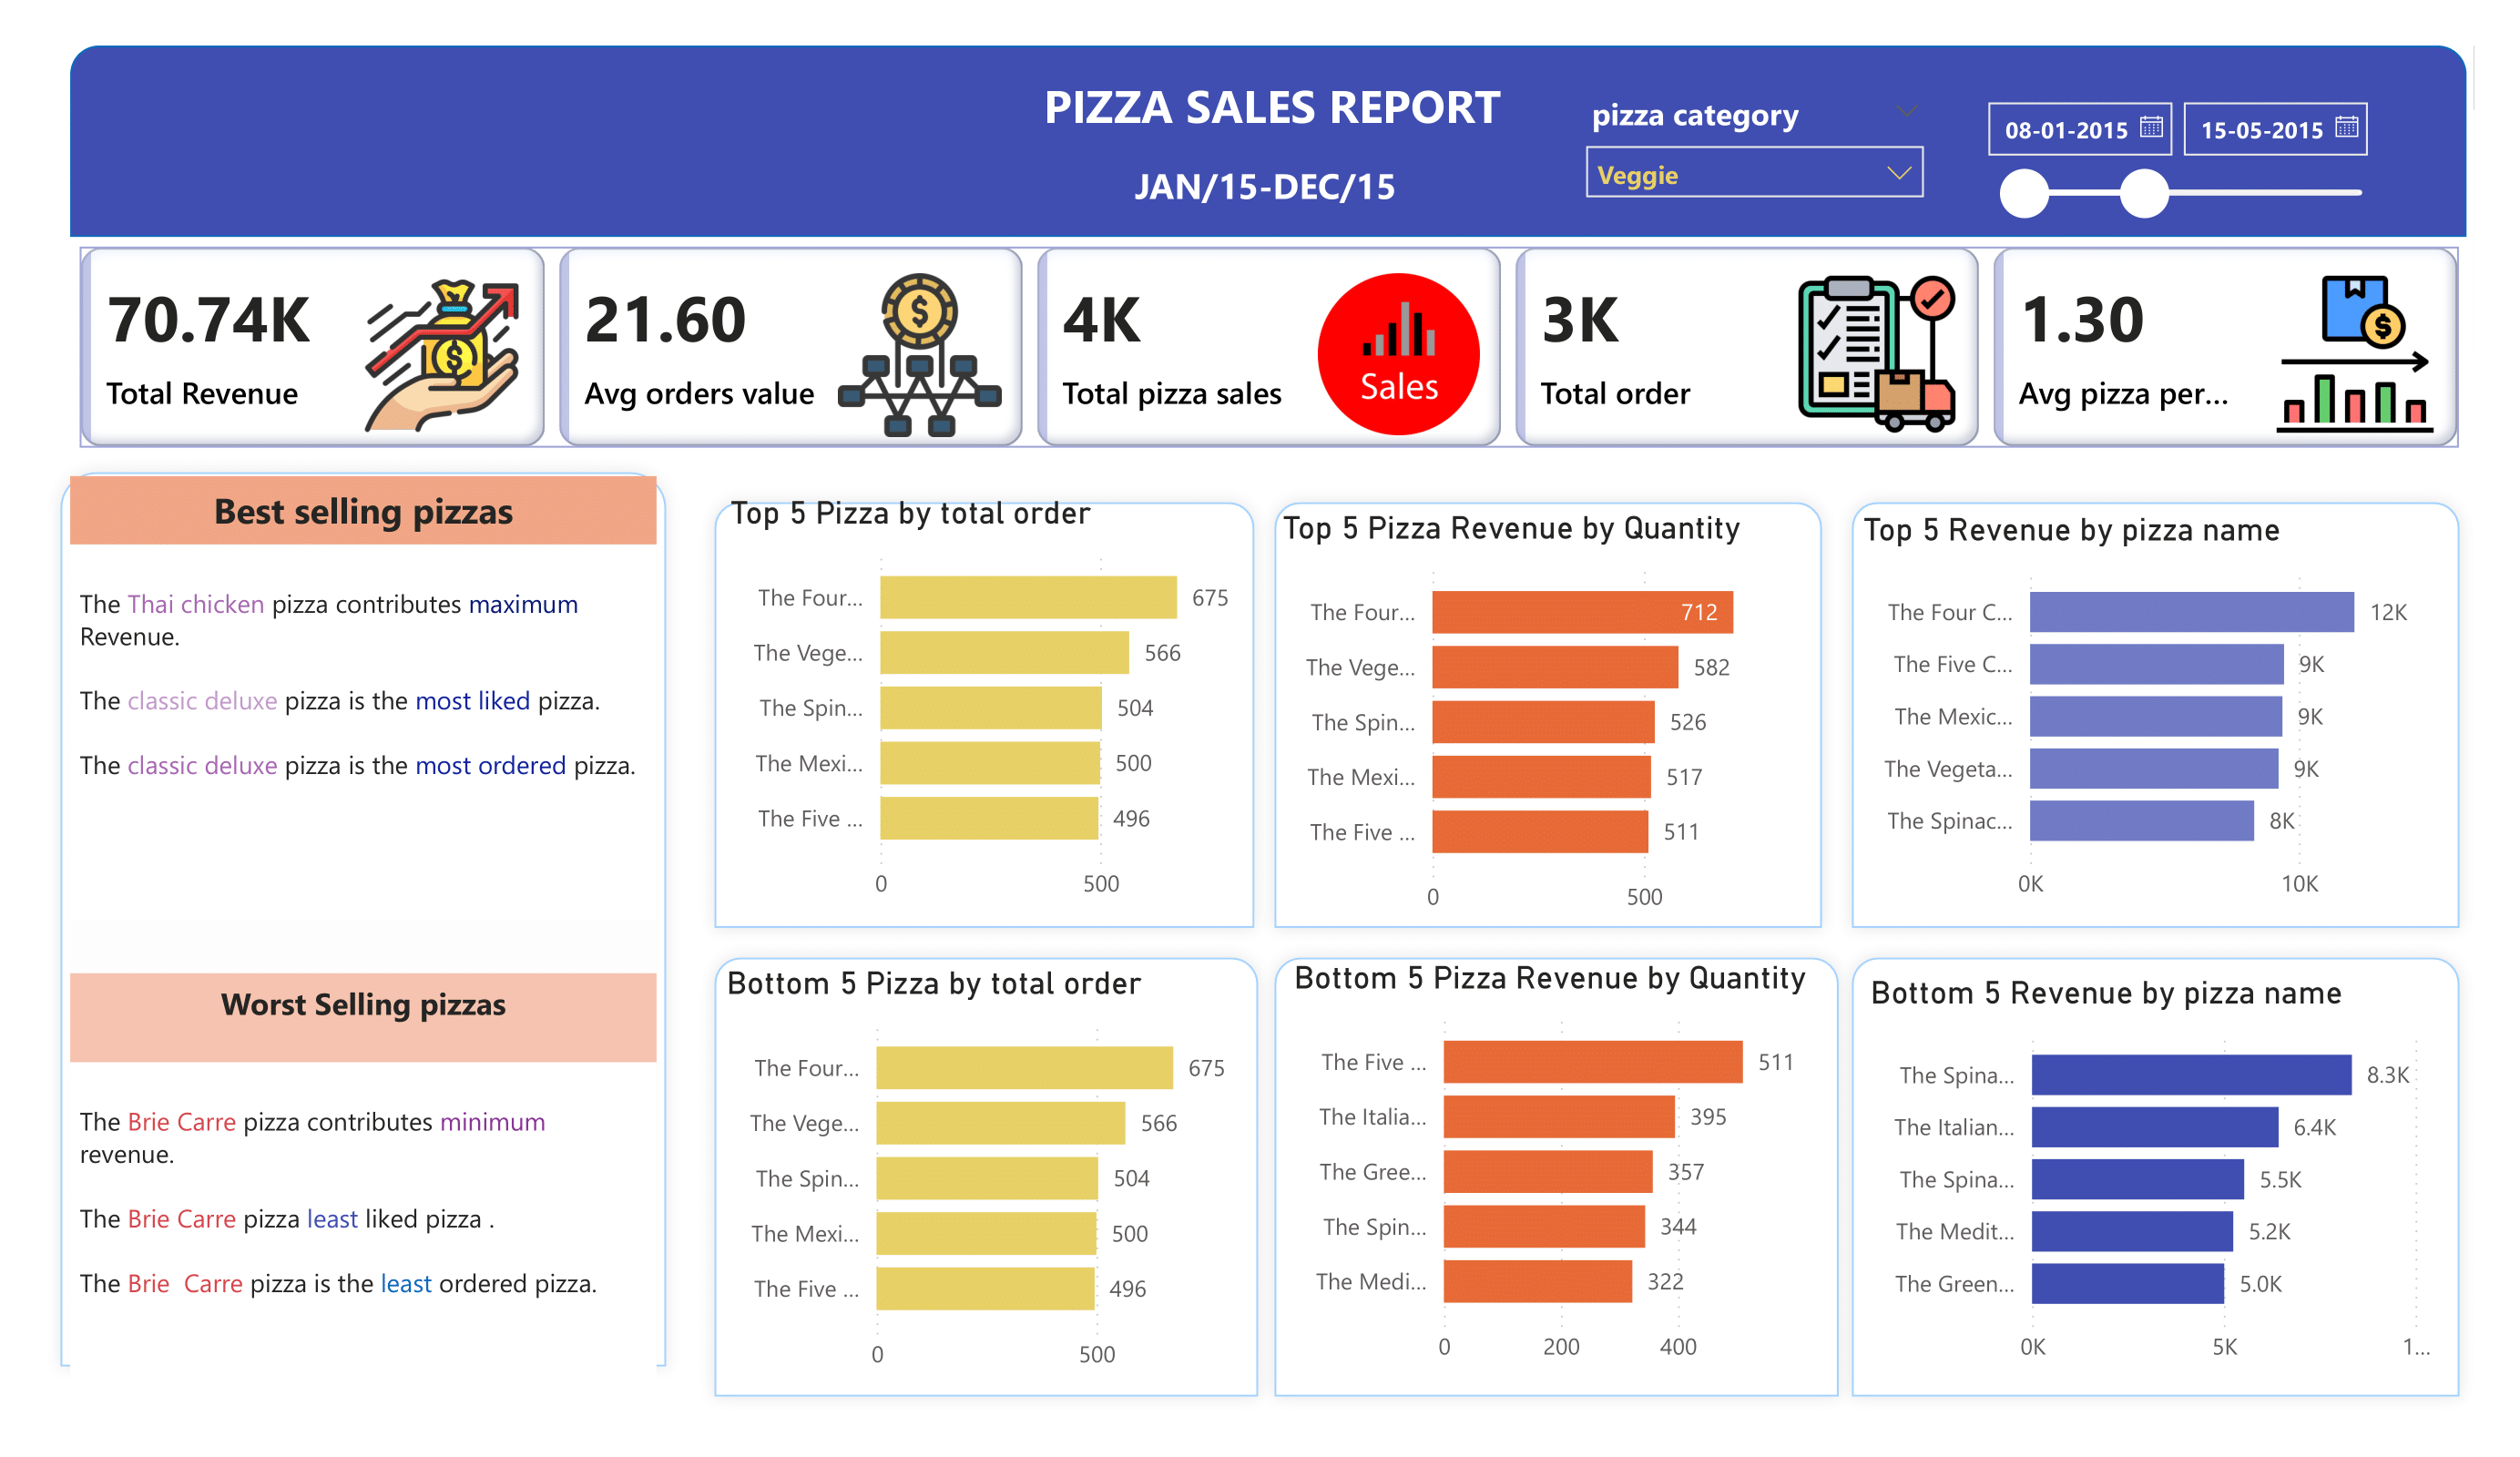

This screenshot's page, from the dashboard's own definition file:
{"tool":"powerbi","page":{"name":"Best/worst seller","canvas":[1280,720],"ordinal":1},"visuals":[{"type":"shape","box":[13.2,0,1262.9,101],"z":0},{"type":"shape","box":[0,216.6,335.1,487.3],"z":1000},{"type":"cardVisual","fields":{"Data":["pizza_sales.Total Revenue","pizza_sales.Avg orders value","pizza_sales.Total pizza sales","pizza_sales.Total order","pizza_sales.Avg pizza per orders"]},"box":[13.2,101,1267.3,115.6],"z":2000},{"type":"textbox","box":[521,10.2,289.8,45.4],"z":3000},{"type":"textbox","box":[569.3,55.6,215.1,35.1],"z":4000},{"type":"shape","box":[345.4,232.7,300,240],"z":5000},{"type":"textbox","box":[13.2,226.8,308.8,36.6],"z":6000},{"type":"textbox","box":[13.2,263.4,308.8,197.6],"z":7000},{"type":"textbox","box":[13.2,488.8,308.8,46.8],"z":8000},{"type":"textbox","box":[13.2,535.6,308.8,168.3],"z":9000},{"type":"slicer","fields":{"Values":["pizza_sales.pizza_category"]},"box":[802,20.5,197.6,60],"z":10000},{"type":"slicer","fields":{"Values":["pizza_sales.order_date"]},"box":[1011.2,20.5,231.2,80.5],"z":11000},{"type":"shape","box":[943.9,232.7,336.6,240],"z":12000},{"type":"shape","box":[639.5,232.7,304.4,240],"z":13000},{"type":"shape","box":[943.9,472.7,336.6,247.3],"z":14000},{"type":"shape","box":[639.5,472.7,313.2,247.3],"z":15000},{"type":"shape","box":[345.4,472.7,301.5,247.3],"z":16000},{"type":"barChart","title":"Top 5 Revenue by pizza name","fields":{"Category":["pizza_sales.pizza_name"],"Y":["pizza_sales.Total Revenue"]},"box":[952.5,244.7,322.2,214.8],"z":17000},{"type":"barChart","title":" Bottom 5 Revenue by pizza name","fields":{"Category":["pizza_sales.pizza_name"],"Y":["pizza_sales.Total Revenue"]},"box":[957.1,488.8,307.3,215.1],"z":18000},{"type":"barChart","title":"Top 5 Pizza Revenue by Quantity","fields":{"Category":["pizza_sales.pizza_name"],"Y":["pizza_sales.Total pizza sales"]},"box":[646.8,244.4,283.9,222.4],"z":19000},{"type":"barChart","title":"Bottom 5 Pizza Revenue by Quantity","fields":{"Category":["pizza_sales.pizza_name"],"Y":["pizza_sales.Total pizza sales"]},"box":[653.2,480.7,283.5,223.6],"z":20000},{"type":"barChart","title":"Top 5 Pizza by total order","fields":{"Category":["pizza_sales.pizza_name"],"Y":["pizza_sales.Total order"]},"box":[355.7,235.9,283.5,223.6],"z":21000},{"type":"barChart","title":"Bottom 5 Pizza by total order","fields":{"Category":["pizza_sales.pizza_name"],"Y":["pizza_sales.Total order"]},"box":[353.9,484.2,283.5,223.6],"z":22000}]}

Visuals, with their boxes on the page's 1280x720 design canvas (x1, y1, x2, y2). These are canvas units, not pixel positions in the 2520x1457 screenshot, which may show the page scaled, cropped or inside an application window:
shape: region(13, 0, 1276, 101)
shape: region(0, 217, 335, 704)
cardVisual - pizza_sales.Total Revenue x pizza_sales.Avg orders value: region(13, 101, 1280, 217)
textbox: region(521, 10, 811, 56)
textbox: region(569, 56, 784, 91)
shape: region(345, 233, 645, 473)
textbox: region(13, 227, 322, 263)
textbox: region(13, 263, 322, 461)
textbox: region(13, 489, 322, 536)
textbox: region(13, 536, 322, 704)
slicer - pizza_sales.pizza_category: region(802, 20, 1000, 80)
slicer - pizza_sales.order_date: region(1011, 20, 1242, 101)
shape: region(944, 233, 1280, 473)
shape: region(640, 233, 944, 473)
shape: region(944, 473, 1280, 720)
shape: region(640, 473, 953, 720)
shape: region(345, 473, 647, 720)
"Top 5 Revenue by pizza name" barChart: region(952, 245, 1275, 460)
" Bottom 5 Revenue by pizza name" barChart: region(957, 489, 1264, 704)
"Top 5 Pizza Revenue by Quantity" barChart: region(647, 244, 931, 467)
"Bottom 5 Pizza Revenue by Quantity" barChart: region(653, 481, 937, 704)
"Top 5 Pizza by total order" barChart: region(356, 236, 639, 460)
"Bottom 5 Pizza by total order" barChart: region(354, 484, 637, 708)
